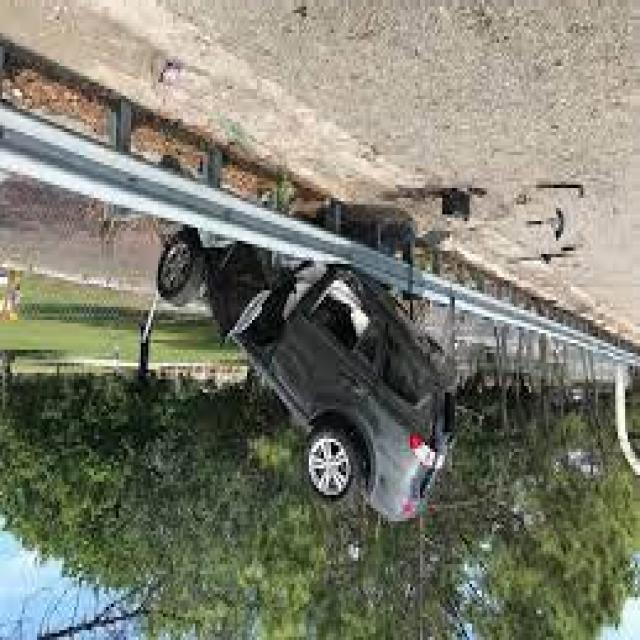severe: (151, 229, 457, 533)
